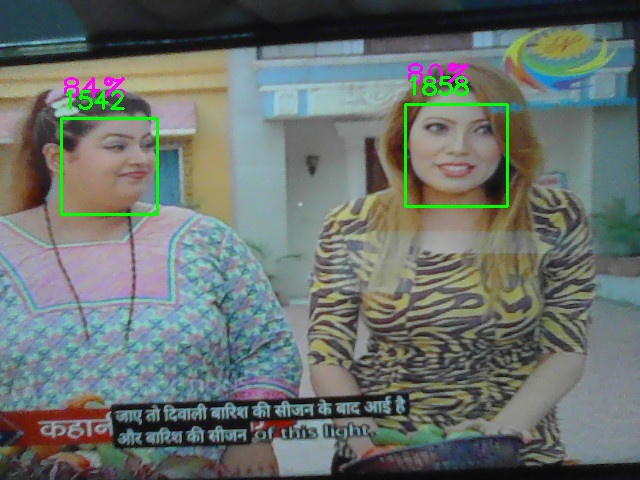fake: (405, 104, 508, 207), (61, 118, 158, 215)
